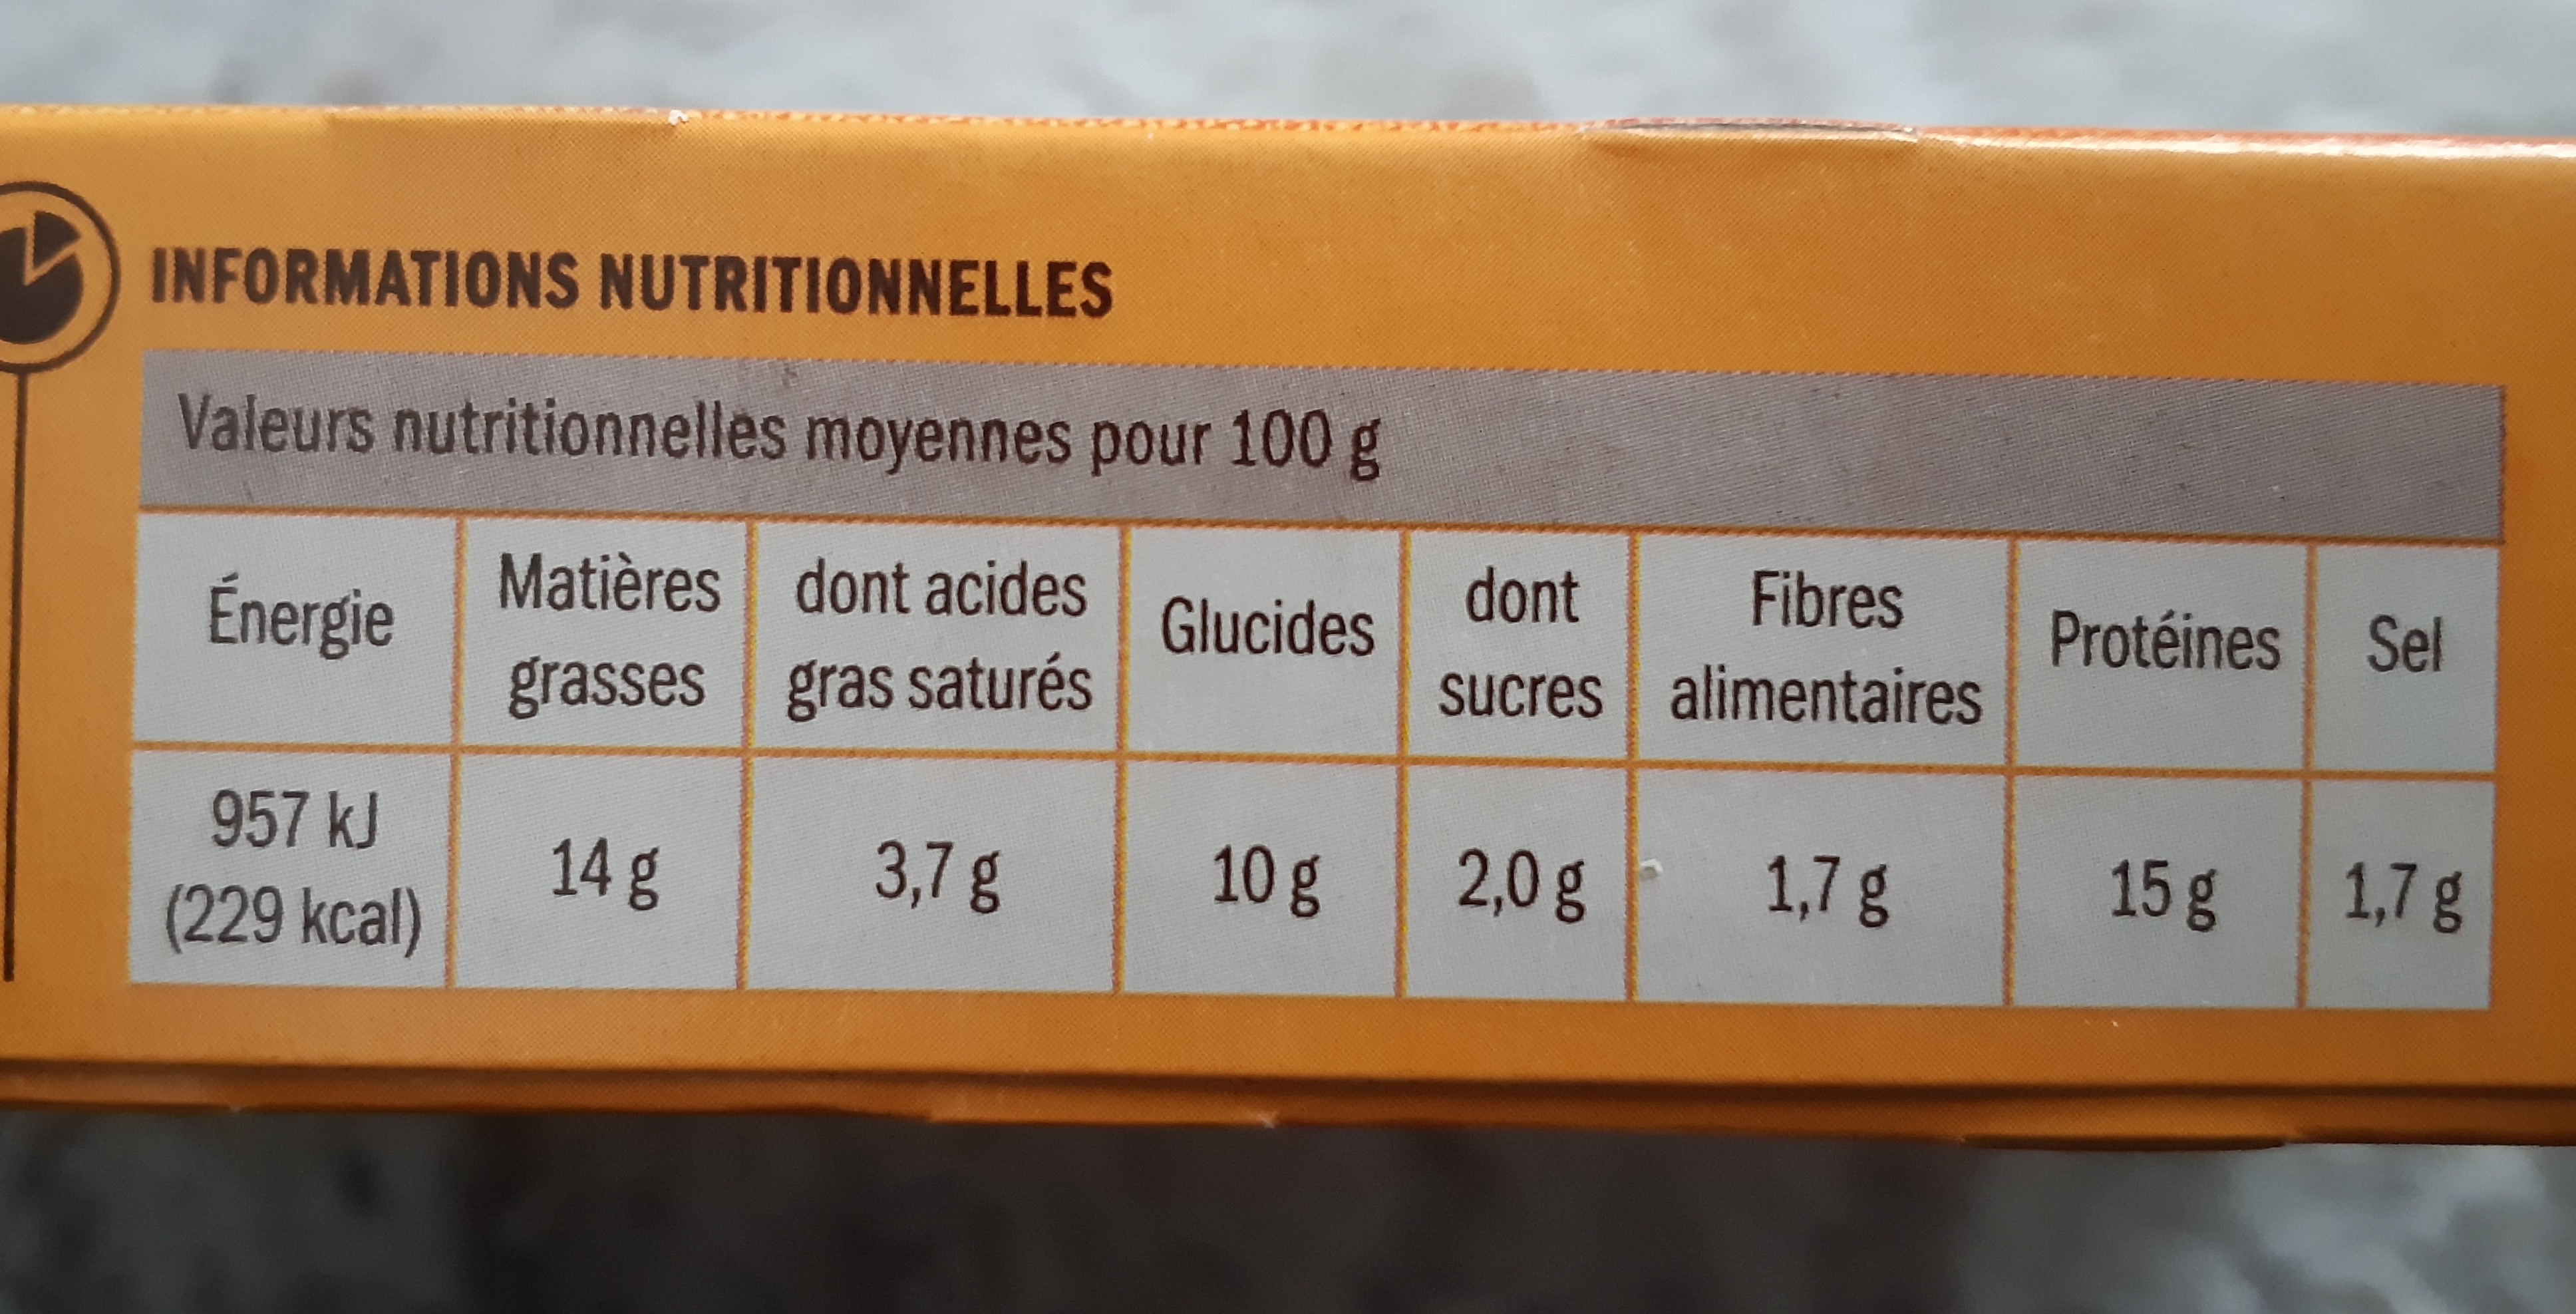column: (1665, 548, 1983, 999), (787, 533, 1095, 987), (156, 516, 422, 975), (496, 528, 722, 977), (2045, 551, 2275, 987), (1162, 538, 1367, 982), (1435, 546, 1608, 999), (2343, 555, 2469, 996)
table: (129, 342, 2506, 1021)
